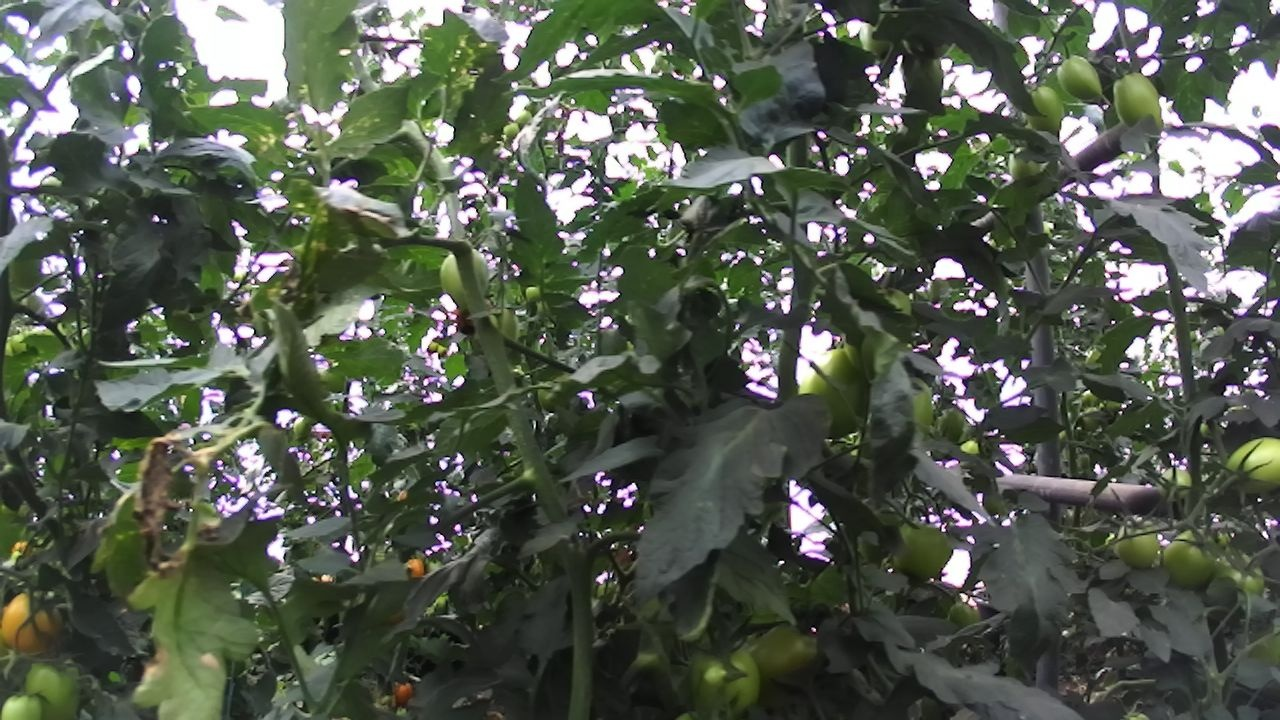tomato: (781, 329, 890, 452), (727, 598, 840, 708), (671, 629, 776, 720), (876, 505, 970, 597), (0, 569, 78, 667), (1098, 57, 1178, 151), (1197, 533, 1276, 624), (432, 236, 503, 329), (1153, 518, 1230, 596), (1011, 68, 1079, 154), (18, 643, 93, 720), (1046, 42, 1120, 118), (1212, 427, 1280, 508), (888, 35, 957, 113), (991, 131, 1060, 200), (581, 306, 644, 381), (1103, 508, 1169, 577), (923, 396, 971, 471), (1147, 457, 1203, 517), (937, 590, 991, 639), (0, 674, 56, 720), (384, 673, 421, 711), (401, 549, 433, 587), (518, 278, 549, 309), (497, 117, 526, 142), (513, 104, 534, 130)
